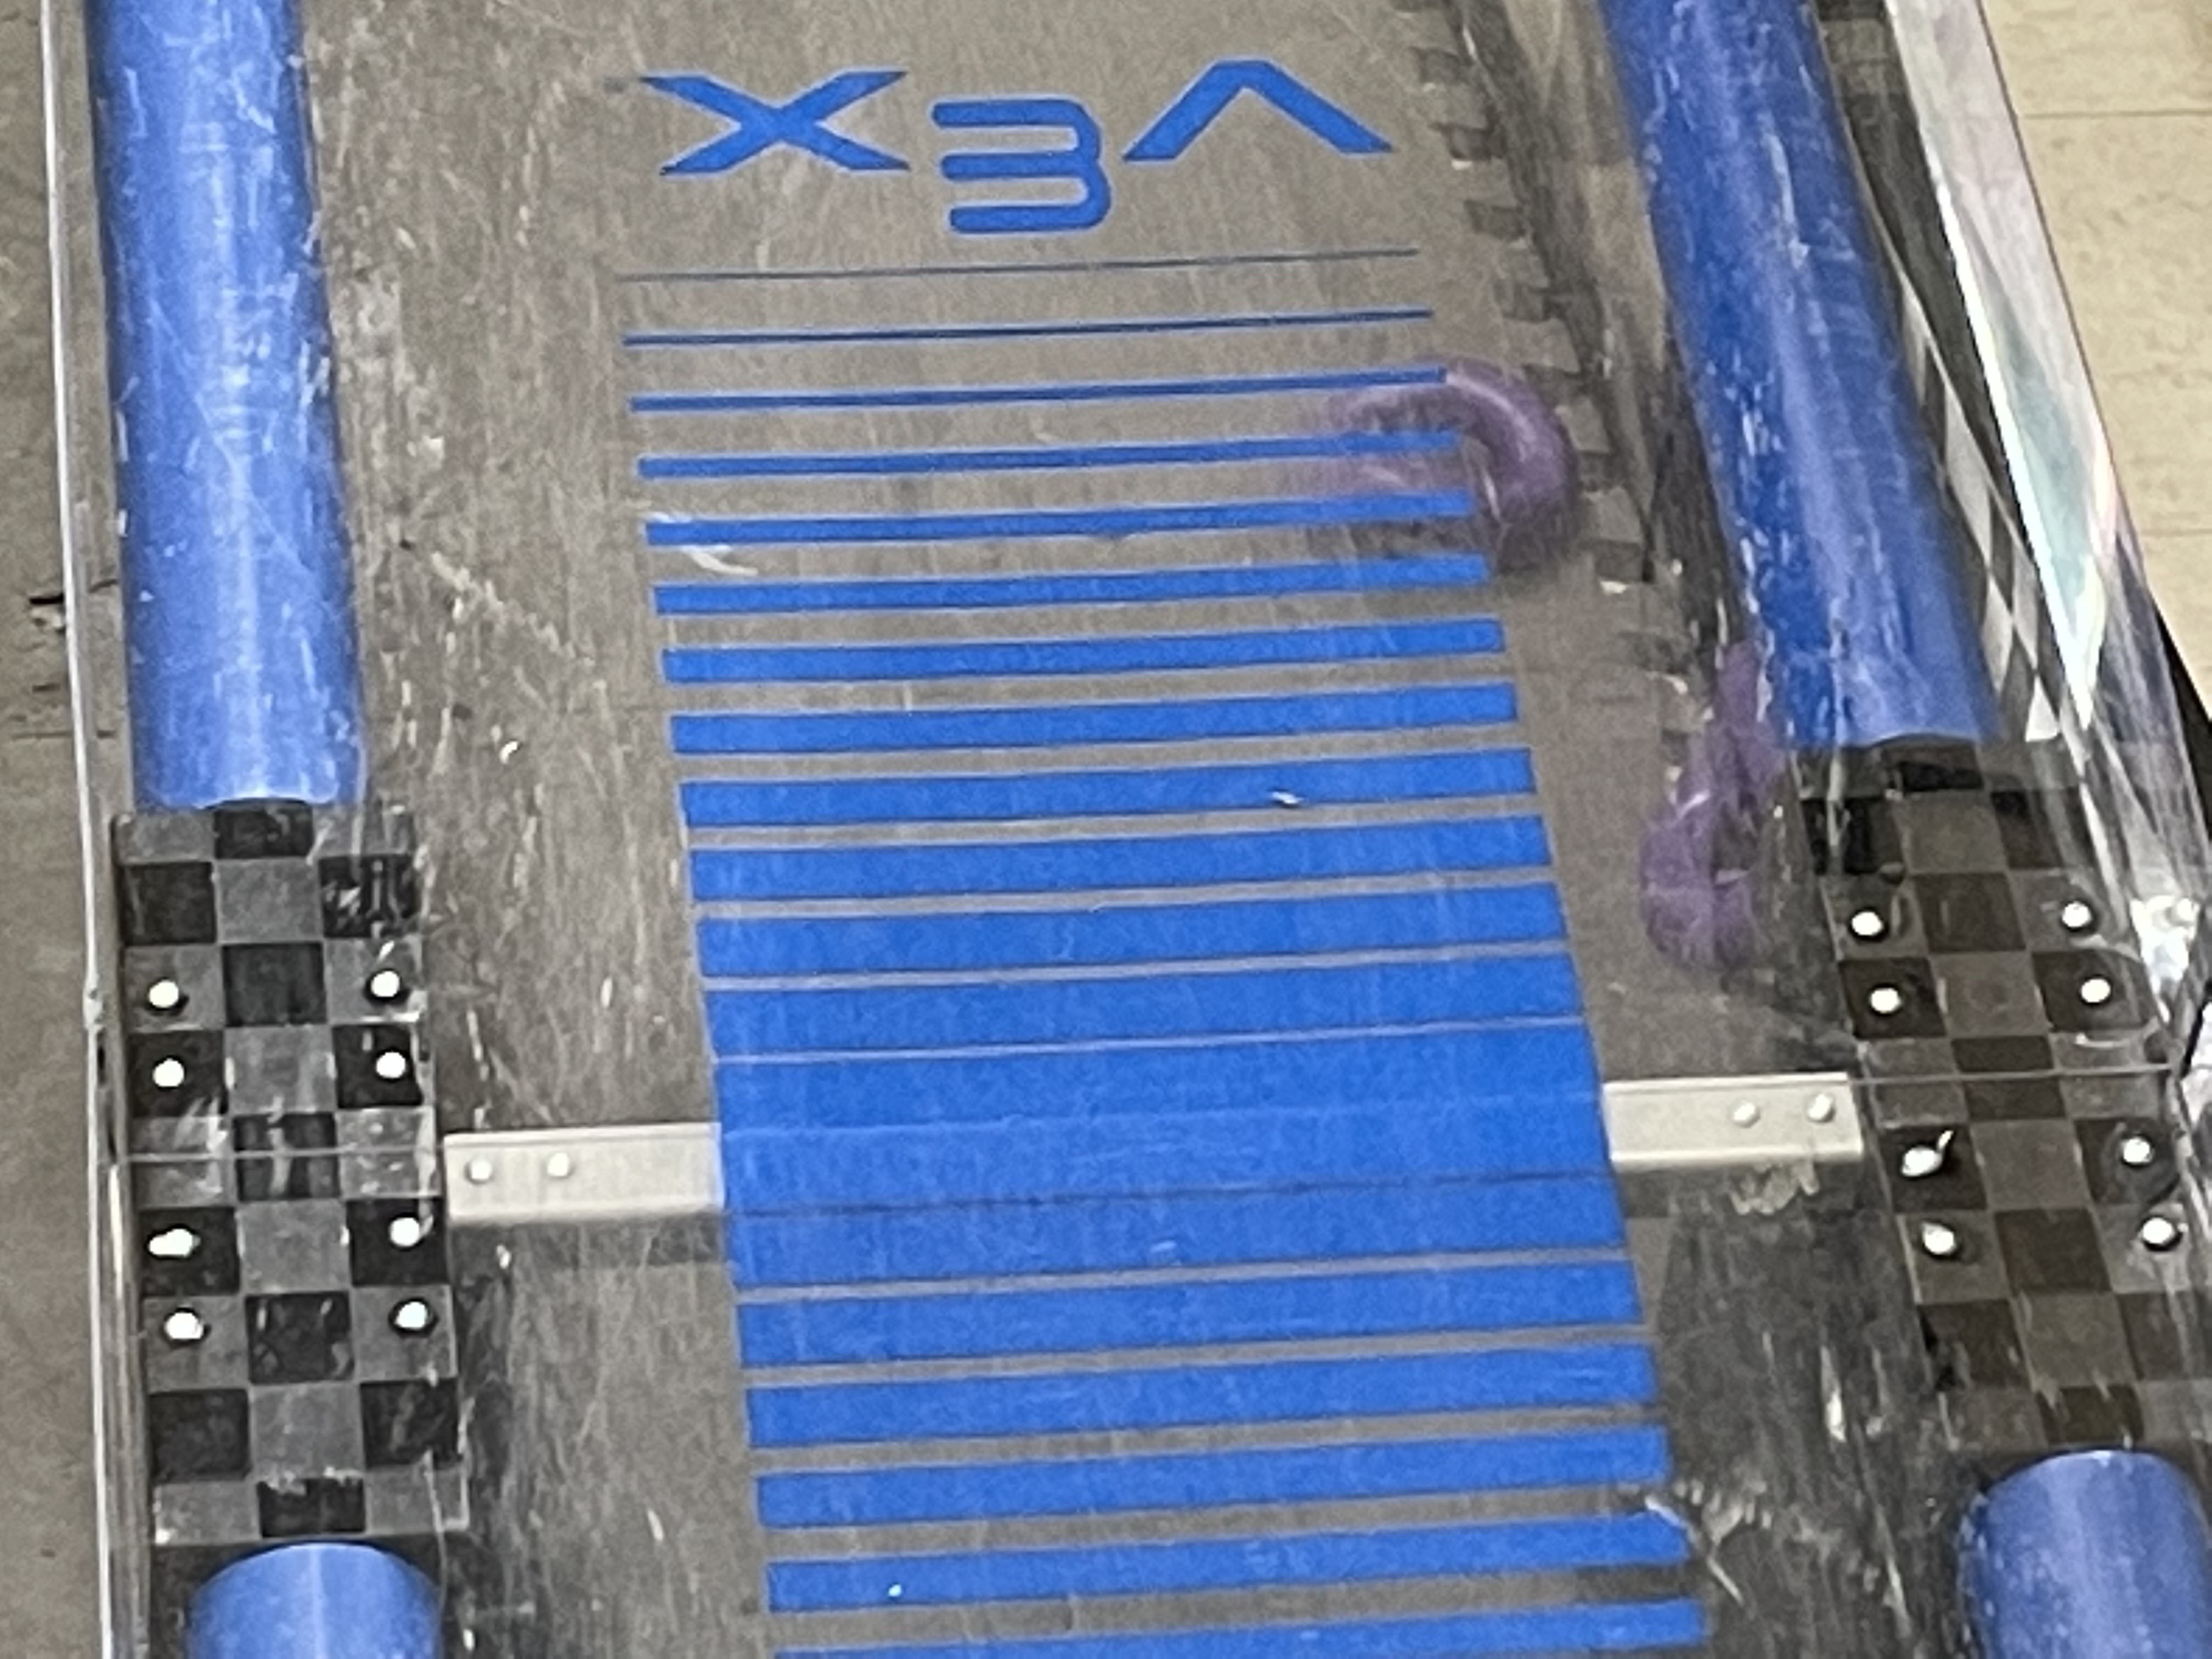ring: (1292, 335, 1599, 579), (1644, 636, 1804, 988)
